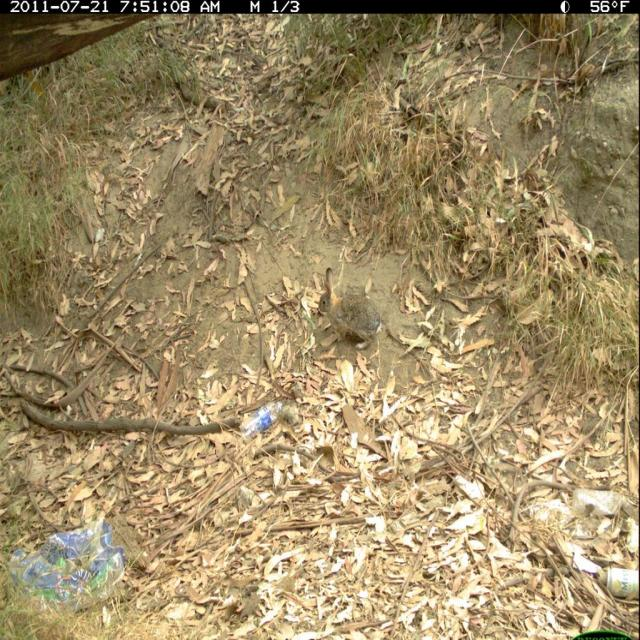rabbit: (308, 264, 386, 354)
